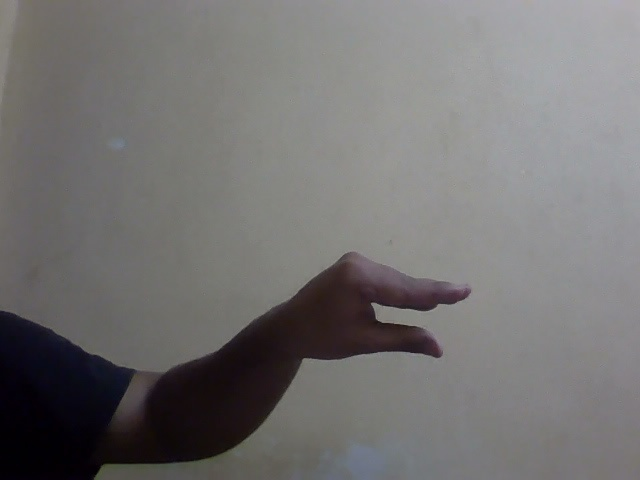No: (257, 236, 508, 391)
